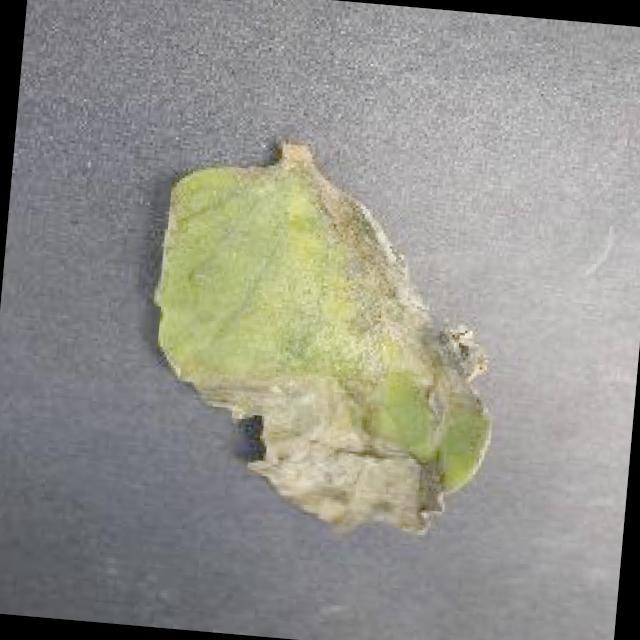Tomato late blight leaf: (135, 156, 512, 548)
